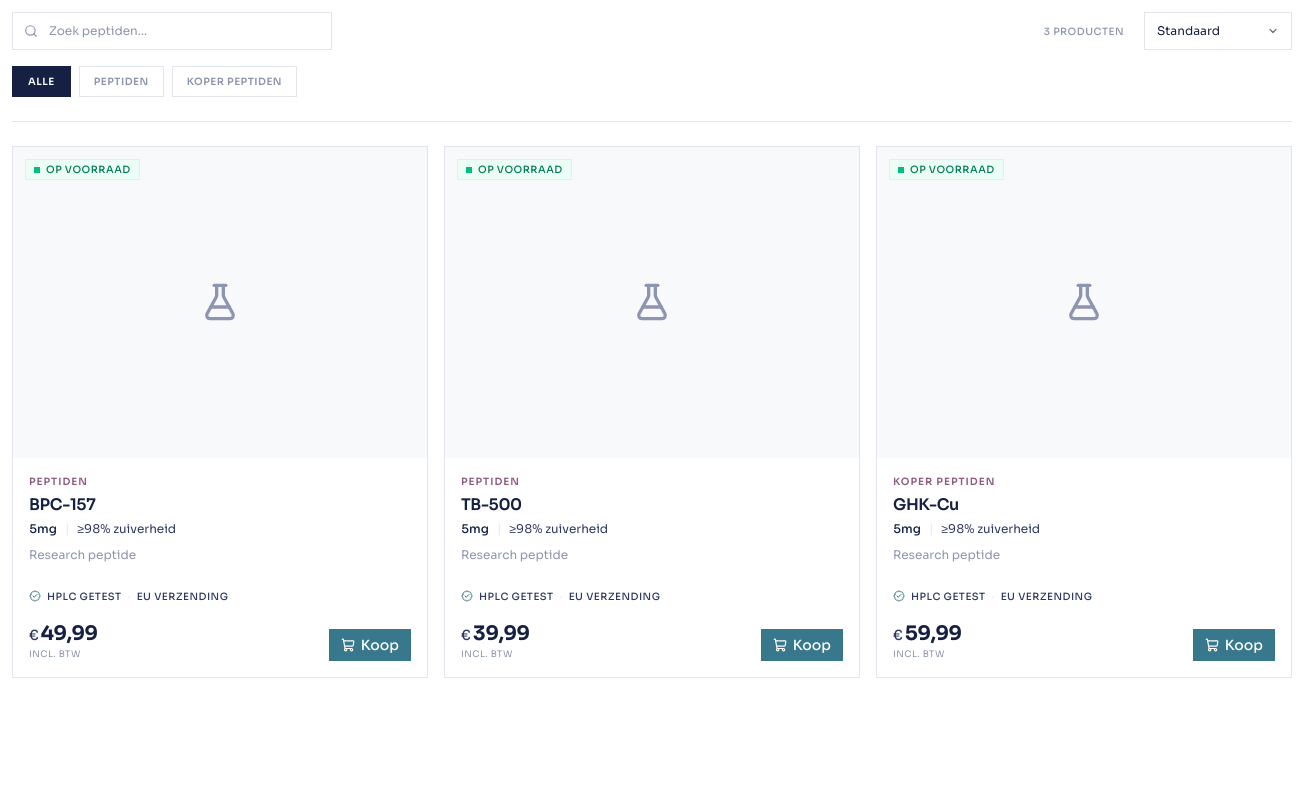
it: ProductCatalog › filters by category when a category pill is clicked
This screenshot has width=1304, height=812.
Click the button "Koper Peptiden" at (234, 82), box [172,66,297,97]
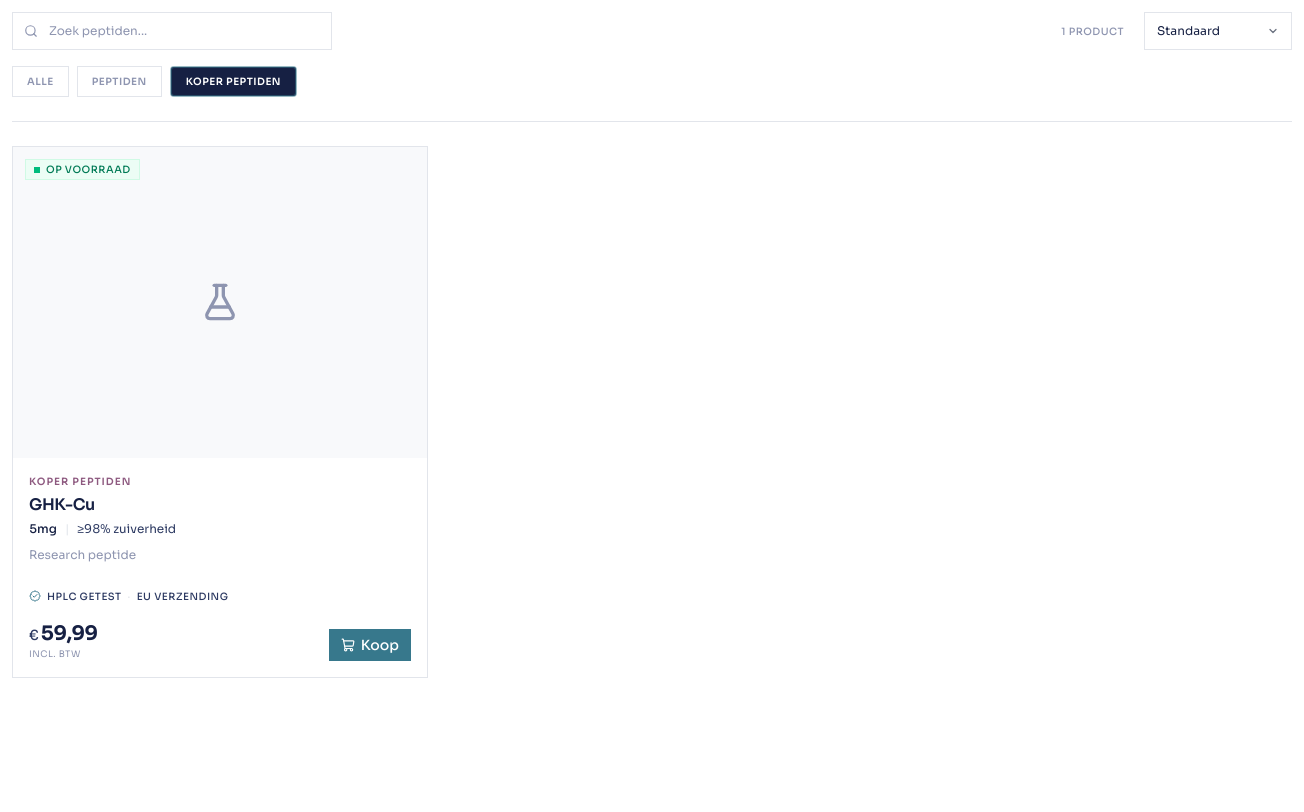
Expected: the heading "GHK-Cu" is shown, [29,494,95,514]
Expected: the heading "BPC-157" is gone
Expected: the heading "TB-500" is gone
